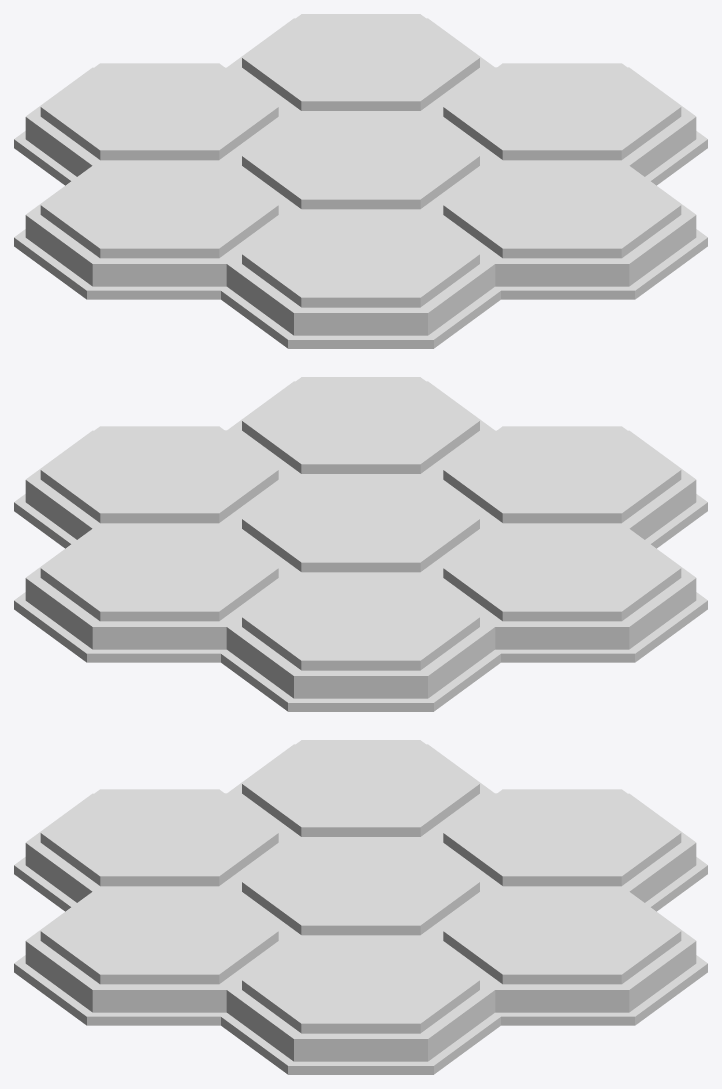
The model's file is PhotovoltaicArray.fbx.
3 views of the same model, one above another, from view 1: azimuth 30°, elevation 25°; view 2: azimuth 150°, elevation 25°; view 3: azimuth 270°, elevation 25° (orthographic).
Parts seen in each view (by area): view 1: PhotovoltaicArray; view 2: PhotovoltaicArray; view 3: PhotovoltaicArray.
Boxes of the visible parts, left/top/right/bottom form: PhotovoltaicArray: left=14, top=14, right=707, bottom=348; PhotovoltaicArray: left=14, top=377, right=707, bottom=711; PhotovoltaicArray: left=14, top=740, right=707, bottom=1074.
Bounding box in the file's own units: 101 × 6.41 × 97.56.
